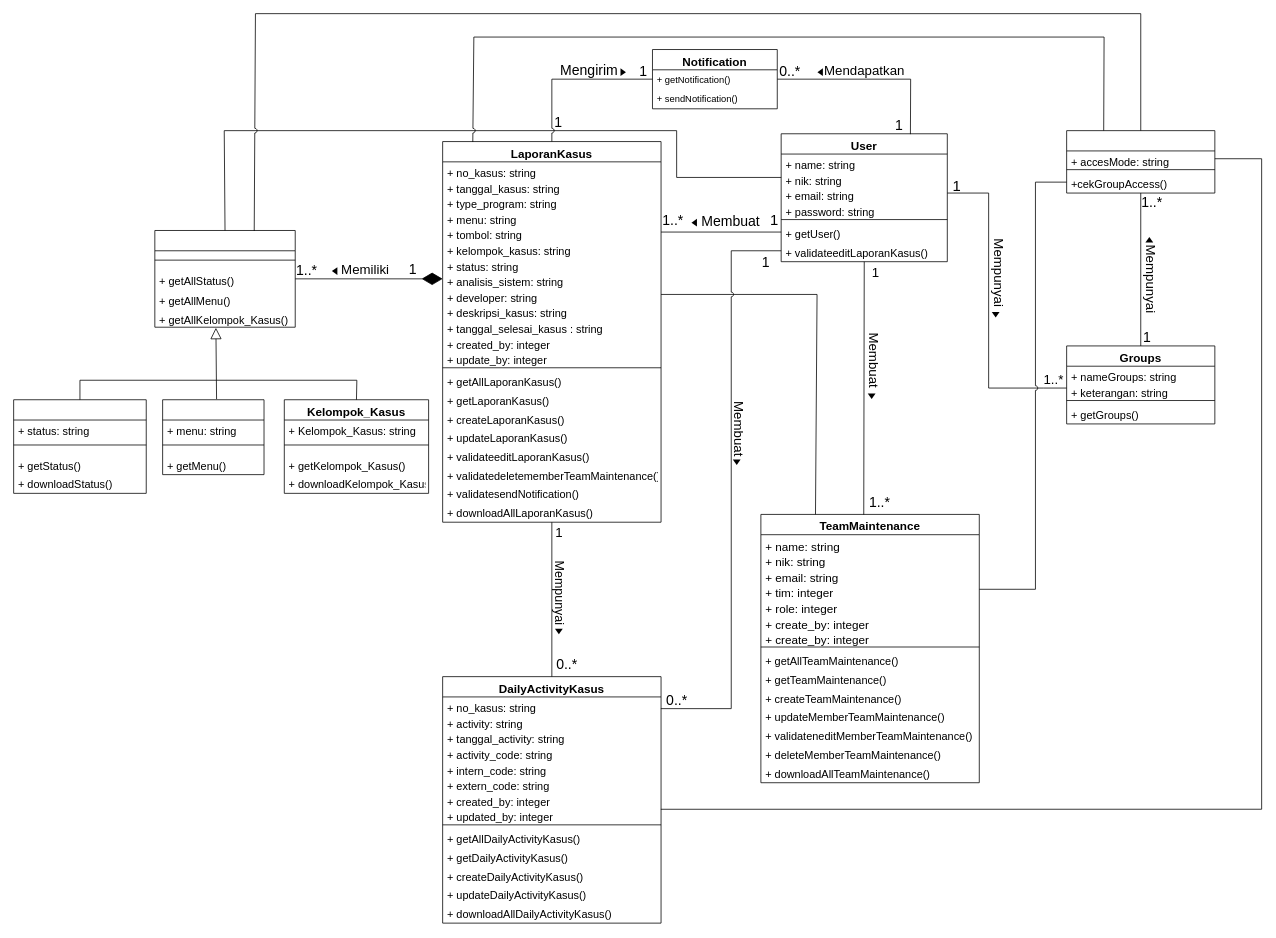
This 1276x938 diagram has some shape labels left out. The box of each missing label's shape, as (x1, y1, x2, y2) in pixels:
GroupsAccess: (1066, 130, 1215, 193)
Menu/Tcode: (162, 399, 264, 475)
ProsesStatus: (13, 399, 146, 493)
ReportingLaporanKasus: (154, 230, 295, 327)
